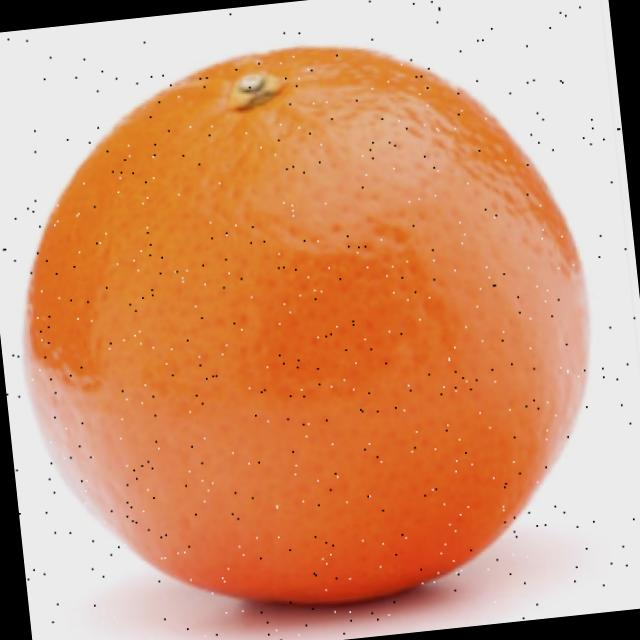orange: (3, 10, 632, 640)
